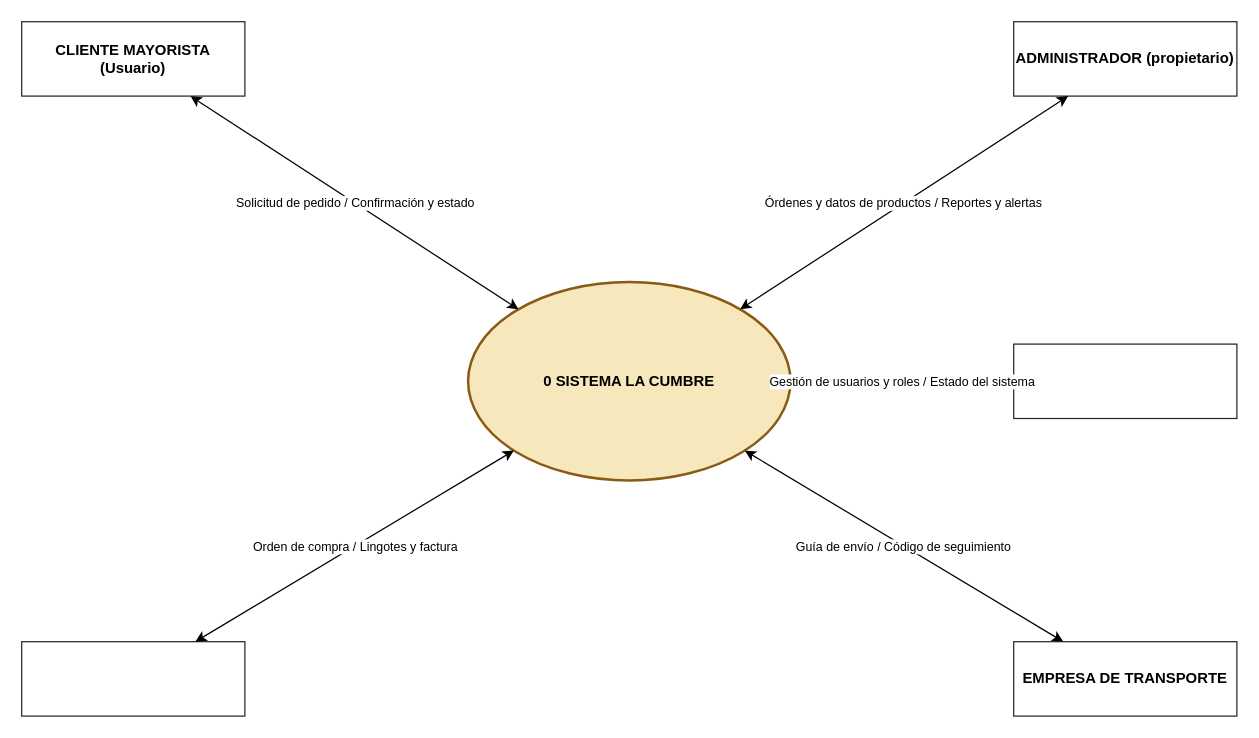
This 1259x738 diagram has some shape labels left out. Each missing label, with the centre of its shape:
DESARROLLADOR: the point at 1124,380
PROVEEDOR DE METALES: the point at 132,678
